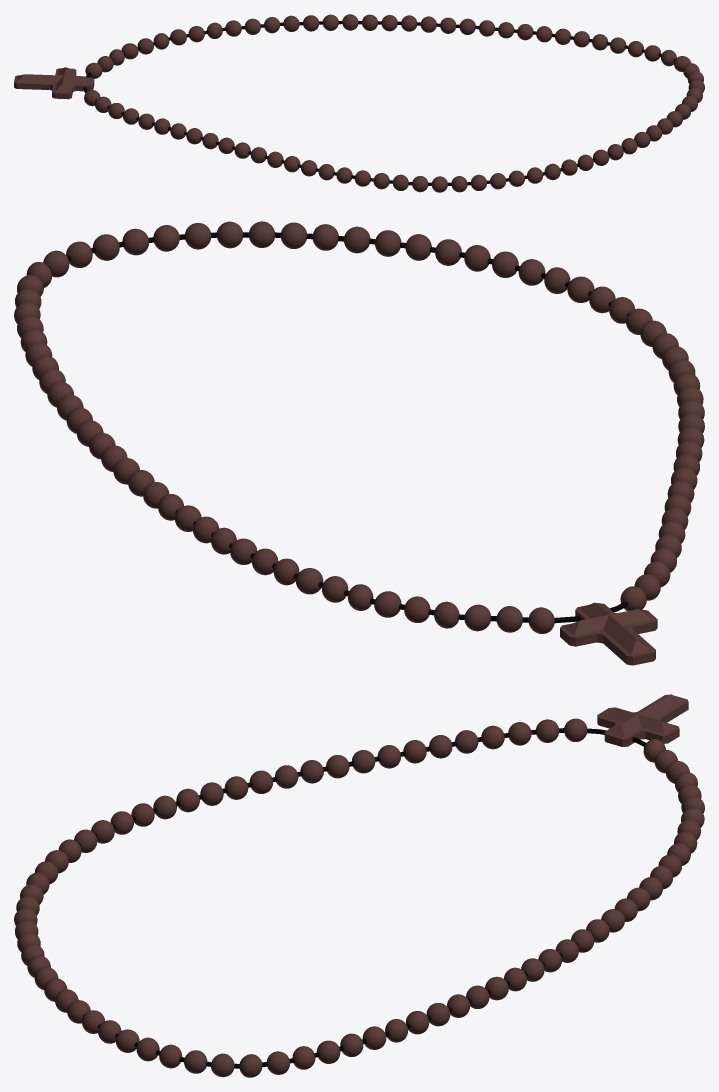
The model's file is Necklace.fbx.
3 renders of one model, top to bottom at view 1: azimuth 30°, elevation 25°; view 2: azimuth 150°, elevation 25°; view 3: azimuth 270°, elevation 25°, orthographic. The views are drawn at different scales.
Parts seen in each view (by area): view 1: Sphere, Cube, BezierCircle; view 2: Sphere, Cube, BezierCircle; view 3: Sphere, Cube, BezierCircle.
Part boxes in pixels (x1,y1,x2,y2): Sphere: (84,14,704,192); Cube: (14,67,94,99); BezierCircle: (83,21,675,185); Sphere: (14,221,704,633); Cube: (560,602,657,665); BezierCircle: (48,232,644,623); Sphere: (14,718,704,1077); Cube: (597,694,688,746); BezierCircle: (78,728,645,1068).
Size of the model in its own units: 370 by 10.38 by 290.
